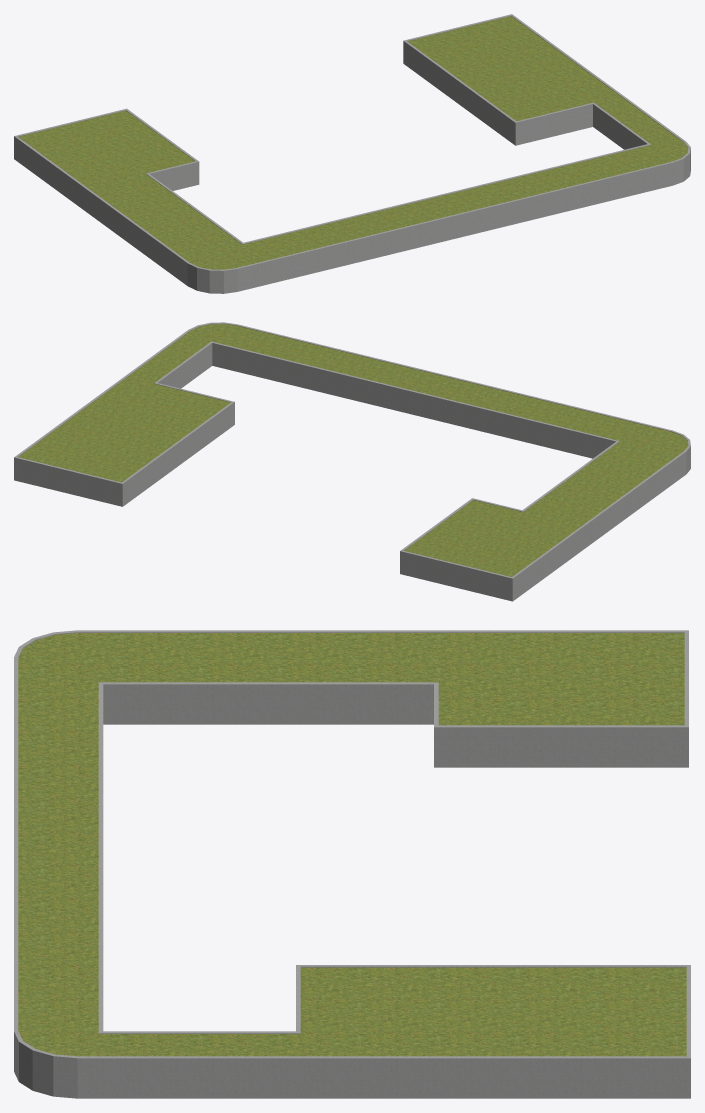
The model's file is garden (copy).gltf.
3 renders of one model, top to bottom at view 1: azimuth 30°, elevation 25°; view 2: azimuth 150°, elevation 25°; view 3: azimuth 270°, elevation 25°, orthographic. The views are drawn at different scales.
Visible parts, largest first — view 1: garden; view 2: garden; view 3: garden.
Boxes of the visible parts, left/top/right/bottom form: garden: left=14, top=14, right=690, bottom=293; garden: left=14, top=322, right=690, bottom=601; garden: left=14, top=630, right=690, bottom=1098.
Bounding box in the file's own units: 22.69 × 1 × 15.17.
Materials: 2 (2 with a texture image).
